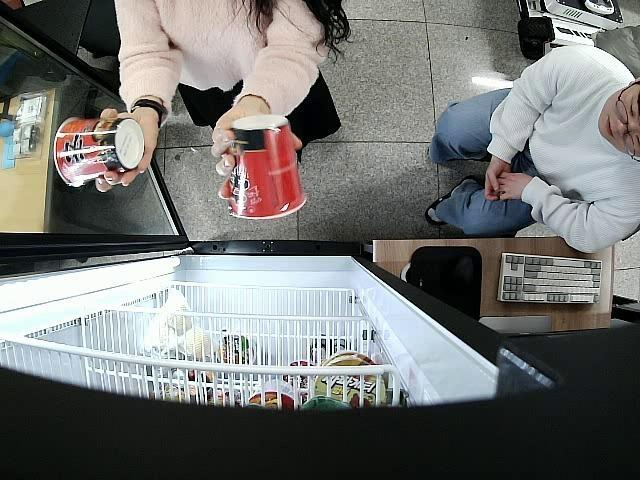02_shinRamen_S: (230, 114, 307, 222), (54, 116, 146, 187)
